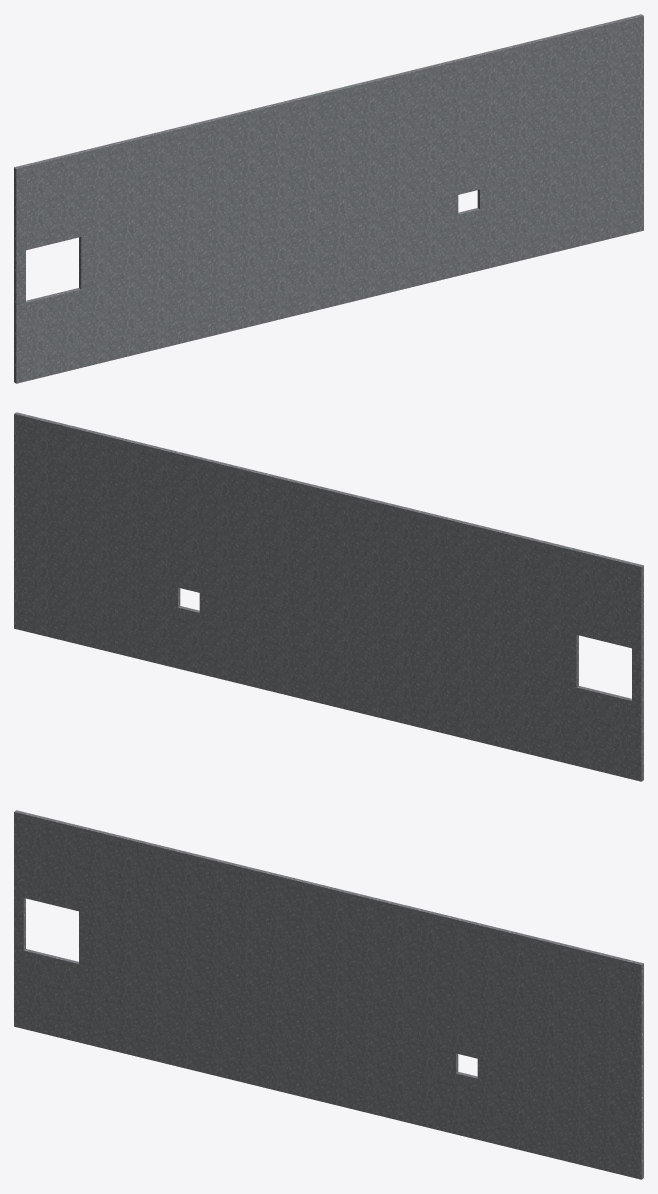
File: floor.glb
3 renders of one model, top to bottom at view 1: azimuth 30°, elevation 25°; view 2: azimuth 150°, elevation 25°; view 3: azimuth 330°, elevation 25°, orthographic.
Parts seen in each view (by area): view 1: nacelle_floor; view 2: nacelle_floor; view 3: nacelle_floor.
Boxes of the visible parts, box(x1,y1,x2,y2) form: nacelle_floor: box(14, 14, 643, 383); nacelle_floor: box(14, 412, 643, 781); nacelle_floor: box(14, 810, 643, 1179).
Size of the model in its own units: 12.48 by 4.08 by 0.08.
Materials: 1 (1 with a texture image).
